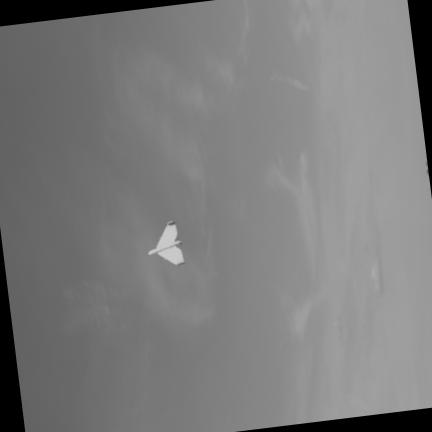Shahed: (148, 220, 184, 263)
